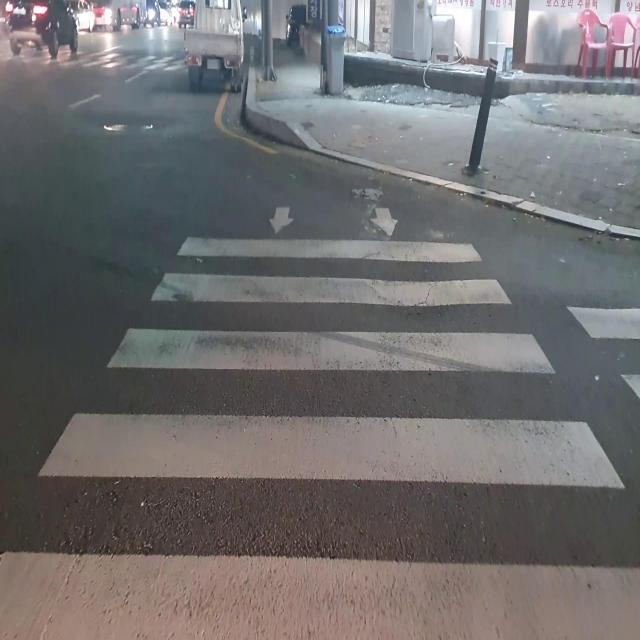crosswalk: (2, 184, 639, 639), (1, 39, 188, 73)
